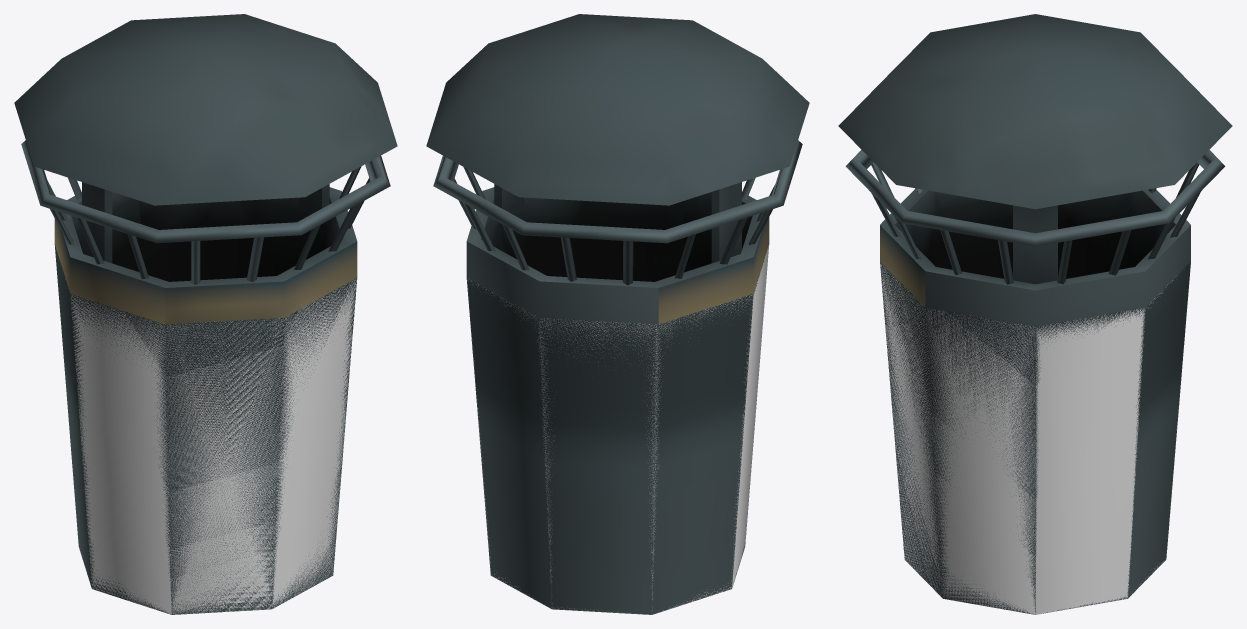
File: objects_un_cylindertrashcan01.gltf
The picture shows the model from 3 angles, left to right: view 1: azimuth 30°, elevation 25°; view 2: azimuth 150°, elevation 25°; view 3: azimuth 270°, elevation 25°; orthographic projection.
Visible parts, largest first — view 1: nomerge_objects_un_cylindertrashcan01_mesh06_shape:objects_u, shadow_shape:objects_un_cylindertrashcan01_shadow01; view 2: nomerge_objects_un_cylindertrashcan01_mesh06_shape:objects_u, shadow_shape:objects_un_cylindertrashcan01_shadow01; view 3: nomerge_objects_un_cylindertrashcan01_mesh06_shape:objects_u, shadow_shape:objects_un_cylindertrashcan01_shadow01.
Part boxes in pixels (box(x1,y1,x2,y2)): nomerge_objects_un_cylindertrashcan01_mesh06_shape:objects_u: box(14, 14, 397, 614); shadow_shape:objects_un_cylindertrashcan01_shadow01: box(65, 278, 357, 614); nomerge_objects_un_cylindertrashcan01_mesh06_shape:objects_u: box(426, 14, 809, 614); shadow_shape:objects_un_cylindertrashcan01_shadow01: box(467, 244, 769, 614); nomerge_objects_un_cylindertrashcan01_mesh06_shape:objects_u: box(838, 14, 1232, 614); shadow_shape:objects_un_cylindertrashcan01_shadow01: box(880, 262, 1190, 614).
Size of what is drawn, in the model's own units: 0.5548 by 0.7919 by 0.5548.
2 materials, 1 textured.
